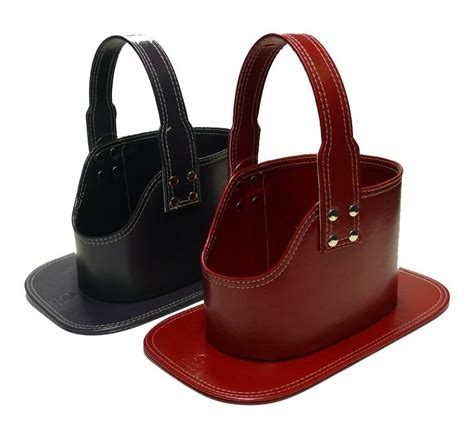cuero: (28, 31, 450, 403)
